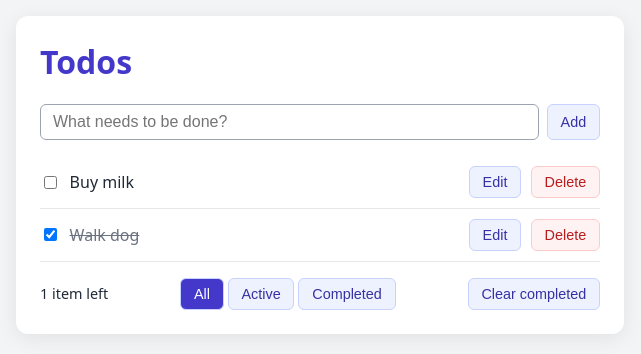
TodoApp › deletes a todo
The width and height of the screenshot is (641, 354).
Click the button named "Delete \"Buy milk\"". click: [565, 182]
box: 531,166 -> 600,198
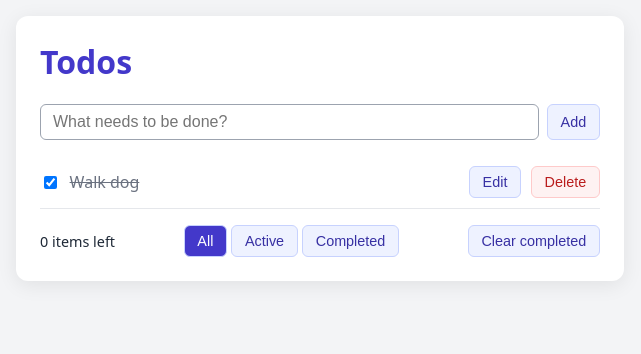
Expected: the text "Buy milk" is gone
